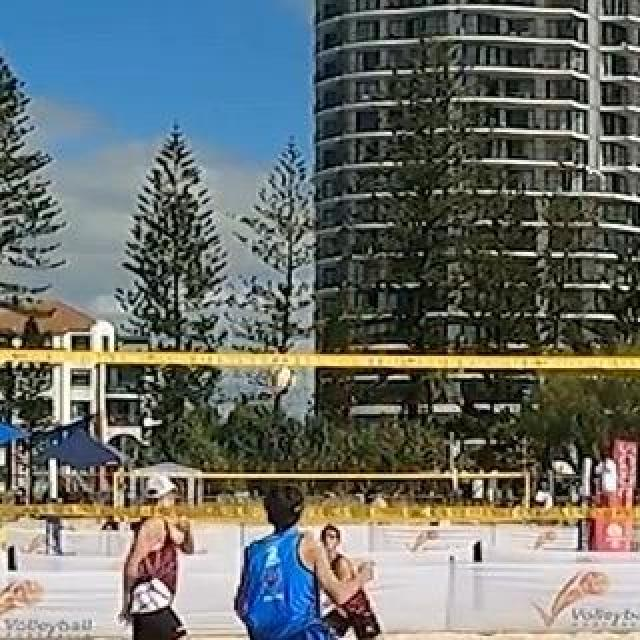volleyball: (266, 360, 298, 392)
